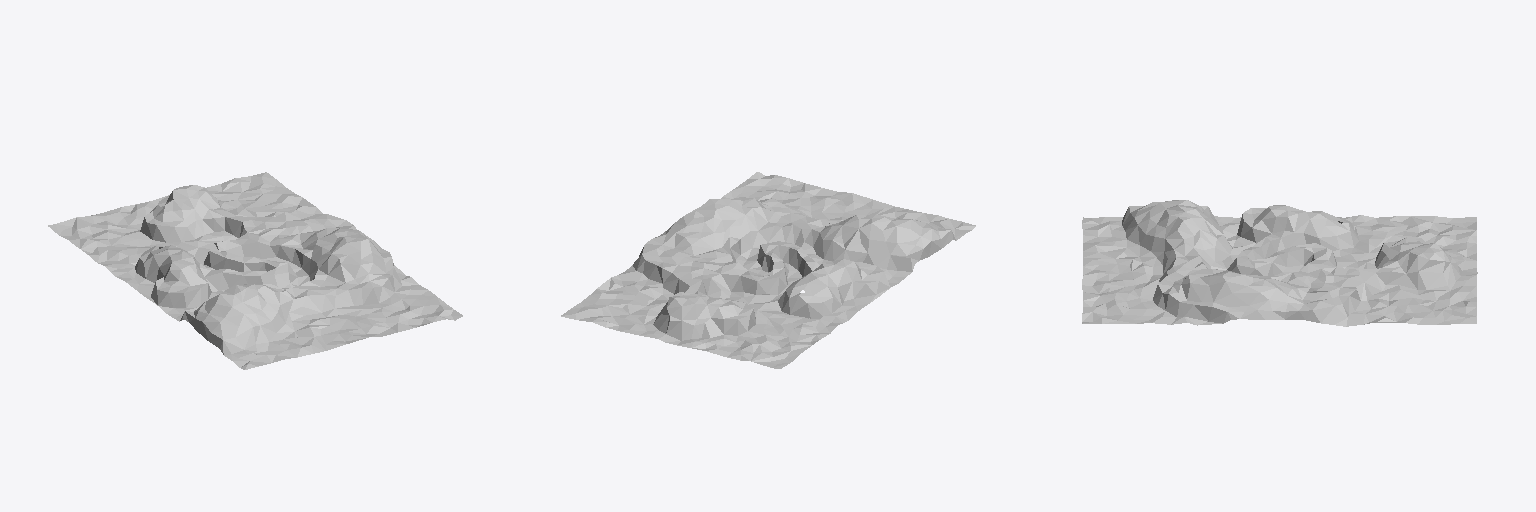
Rendered from Terrain_04_LP.obj.
3 renders of one model, left to right at view 1: azimuth 30°, elevation 25°; view 2: azimuth 150°, elevation 25°; view 3: azimuth 270°, elevation 25°, orthographic.
Parts seen in each view (by area): view 1: Terrain_04_lowpoly_Terrain_04_LP; view 2: Terrain_04_lowpoly_Terrain_04_LP; view 3: Terrain_04_lowpoly_Terrain_04_LP.
Boxes of the visible parts, x1,y1,x2,y2 form: Terrain_04_lowpoly_Terrain_04_LP: [48, 172, 462, 369]; Terrain_04_lowpoly_Terrain_04_LP: [561, 172, 975, 368]; Terrain_04_lowpoly_Terrain_04_LP: [1082, 200, 1477, 326].
Size of the model in its own units: 36.36 by 5.52 by 56.17.